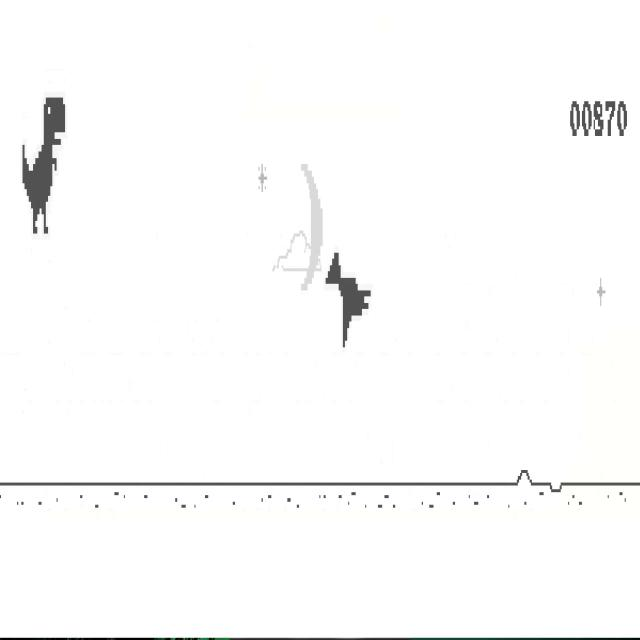dino: (23, 97, 66, 235)
ptero: (325, 252, 371, 349)
